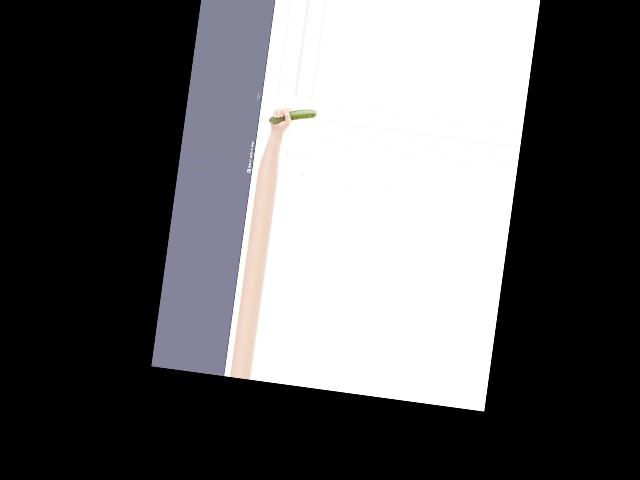cucumber: (268, 103, 317, 128)
